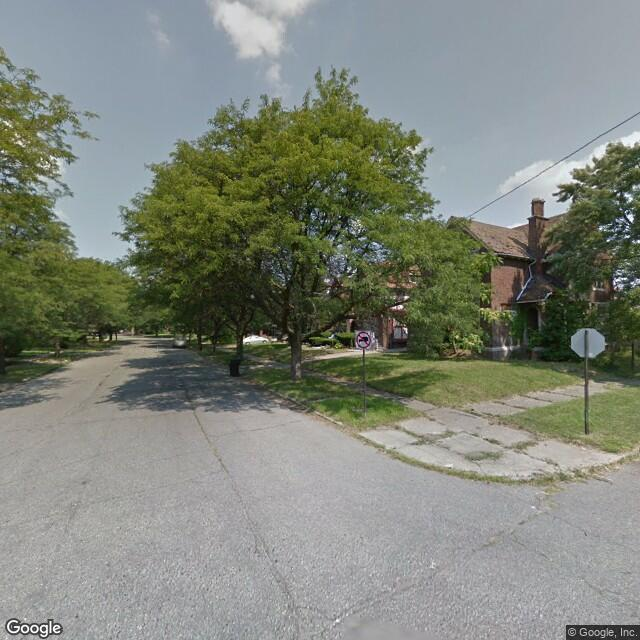litter: (444, 460, 455, 469)
